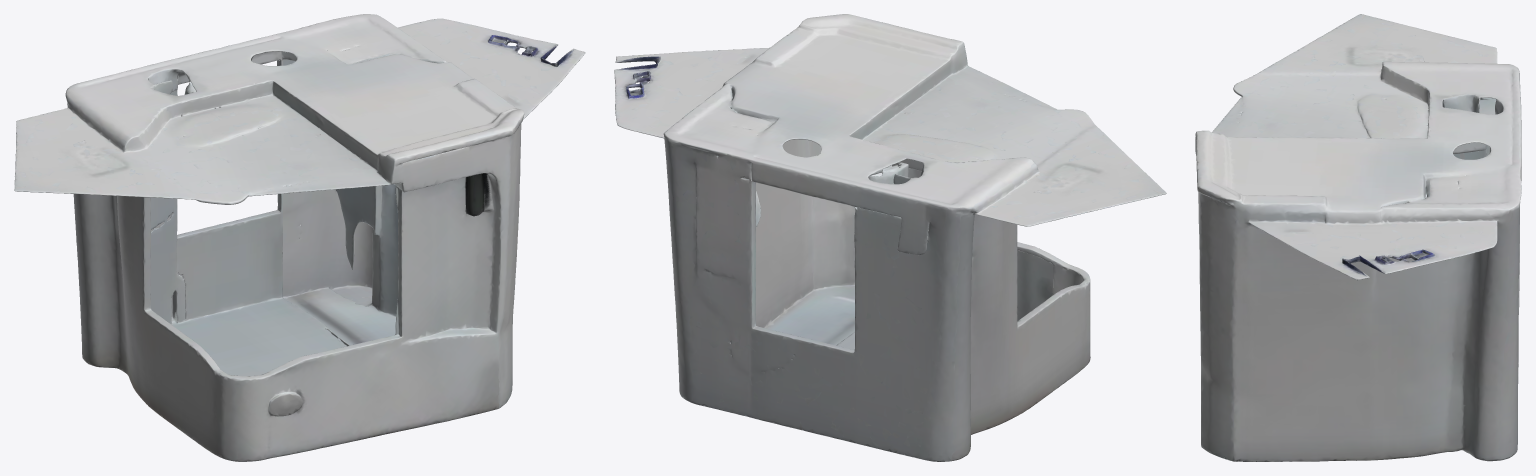
The model's file is habitat.glb.
3 renders of one model, left to right at view 1: azimuth 30°, elevation 25°; view 2: azimuth 150°, elevation 25°; view 3: azimuth 270°, elevation 25°, orthographic. The views are drawn at different scales.
Visible parts, largest first — view 1: geometry_0; view 2: geometry_0; view 3: geometry_0.
Part boxes in pixels (x1,y1,x2,y2): geometry_0: (14,14,585,461); geometry_0: (614,14,1166,461); geometry_0: (1195,14,1521,461).
Size of the model in its own units: 1 by 0.471 by 0.5174.
Materials: 1 (1 with a texture image).
